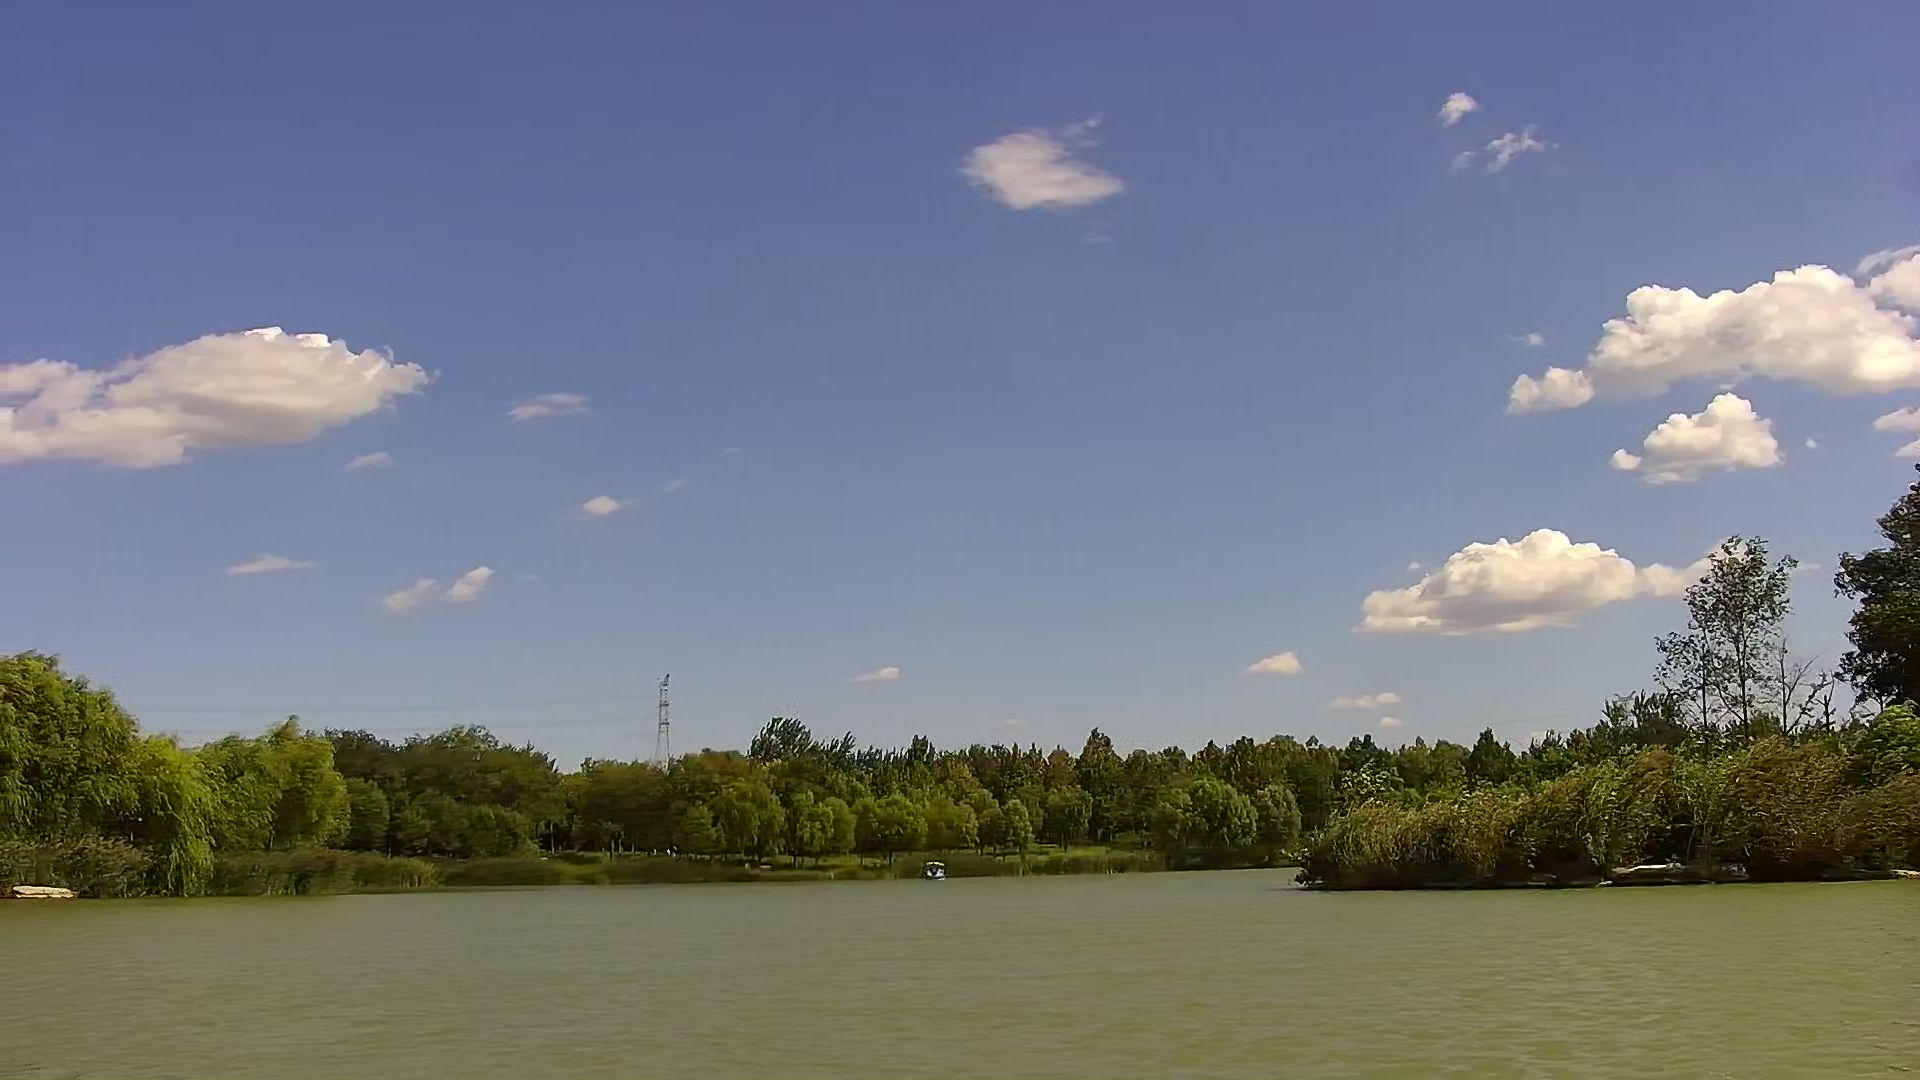boat: (919, 856, 949, 882)
